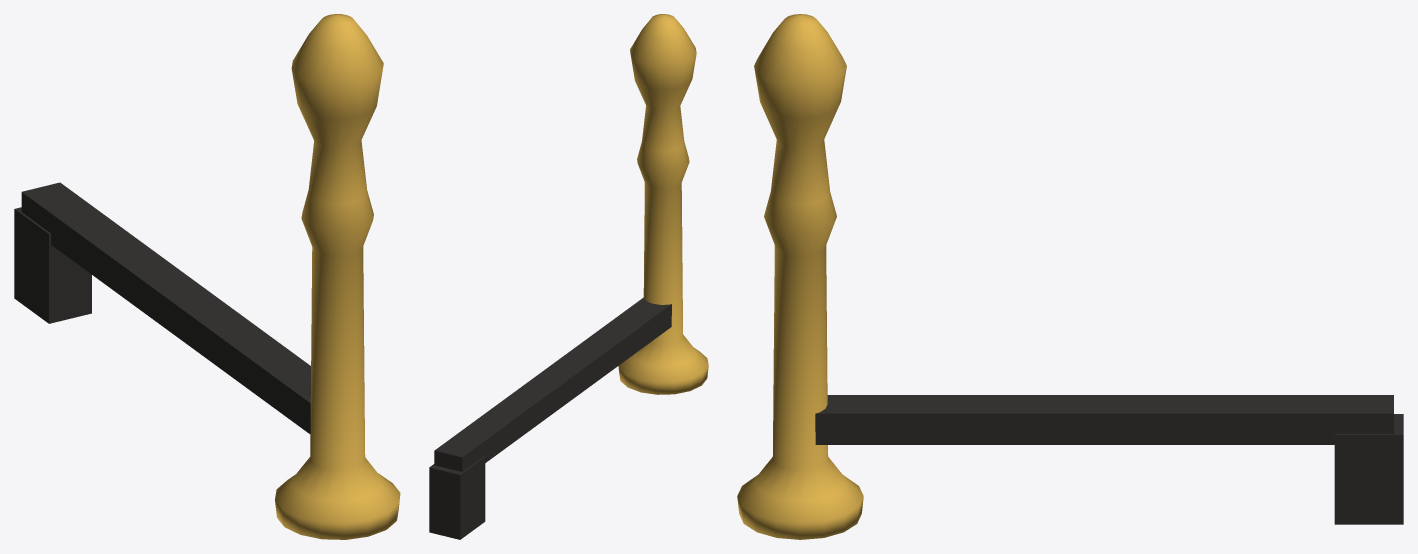
Rendered from andiron.glb.
3 renders of one model, left to right at view 1: azimuth 30°, elevation 25°; view 2: azimuth 150°, elevation 25°; view 3: azimuth 270°, elevation 25°, orthographic. The views are drawn at different scales.
Visible parts, largest first — view 1: Andiron; view 2: Andiron; view 3: Andiron.
Part boxes in pixels (box(x1,y1,x2,y2)): Andiron: box(14, 14, 400, 539); Andiron: box(429, 14, 708, 539); Andiron: box(737, 14, 1403, 539).
Size of the model in its own units: 0.128 by 0.556 by 0.674.
